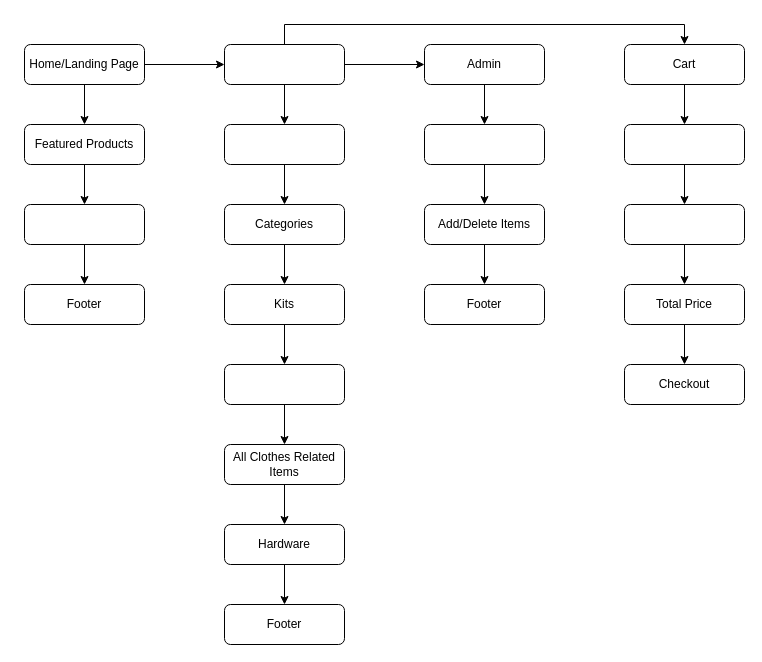
Some shapes in this 762 by 662 pixel diagram are drawn without their labels. The box of each missing label's shape, as (x1, y1, x2, y2) in pixels:
Accessories: (224, 364, 344, 404)
Contact Form: (24, 204, 144, 244)
Displays Everything in cart: (624, 124, 744, 164)
Increase or Decrease Quantity of items: (624, 204, 744, 244)
List of Inventory: (424, 124, 544, 164)
Nav bar: (224, 44, 344, 84)
Products: (224, 124, 344, 164)
